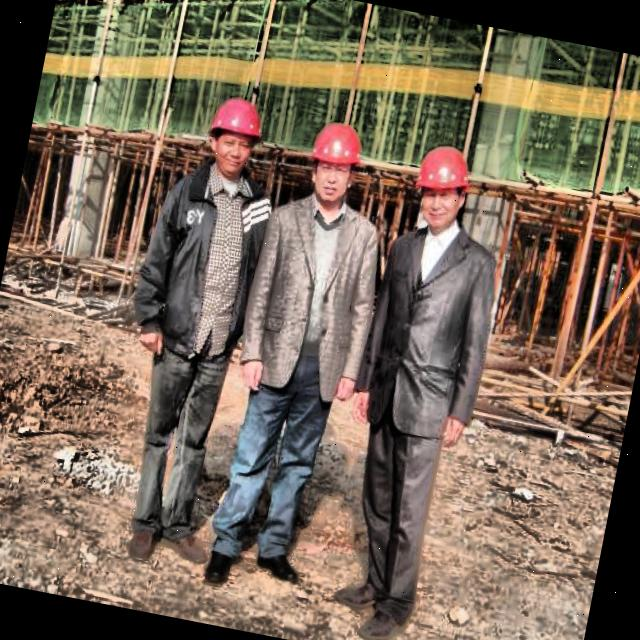helmet: (298, 114, 374, 216), (406, 138, 479, 242), (195, 91, 272, 188)
